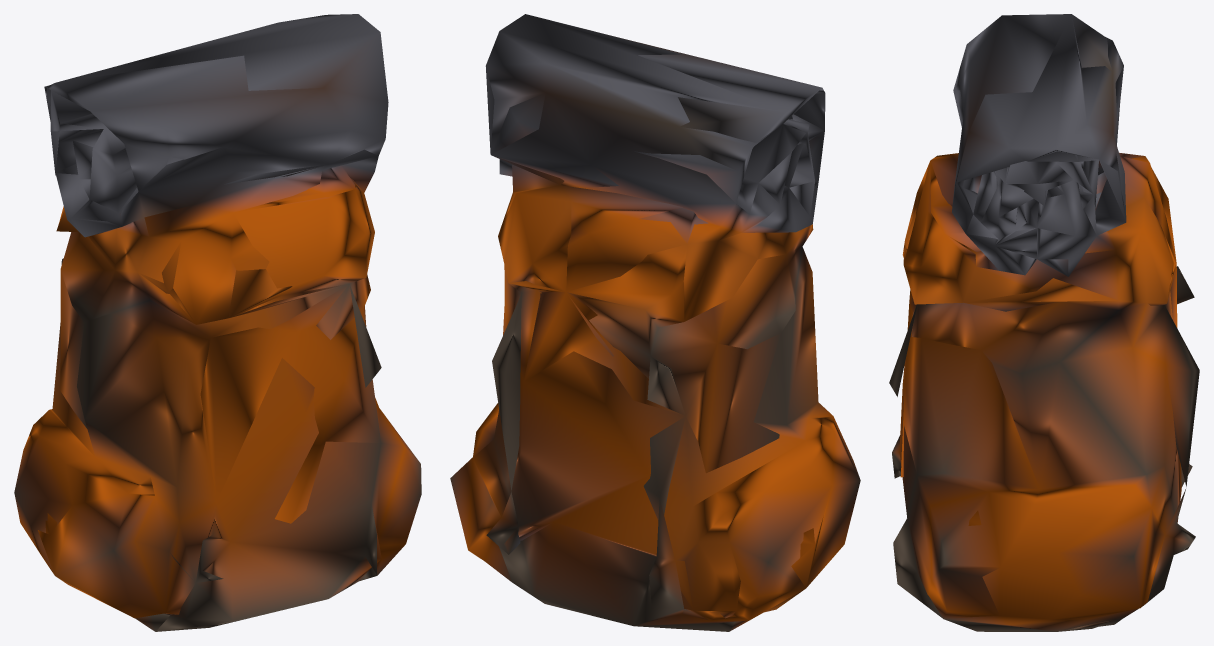
Rendered from gen3d-hiking-backpack-lod1.glb.
3 renders of one model, left to right at view 1: azimuth 30°, elevation 25°; view 2: azimuth 150°, elevation 25°; view 3: azimuth 270°, elevation 25°, orthographic. The views are drawn at different scales.
Visible parts, largest first — view 1: part_0; view 2: part_0; view 3: part_0.
Boxes of the visible parts, <box> form: part_0: <box>14,14,421,631</box>; part_0: <box>450,14,860,631</box>; part_0: <box>889,14,1199,631</box>.
Bounding box in the file's own units: 0.6375 × 0.9879 × 0.5493.
